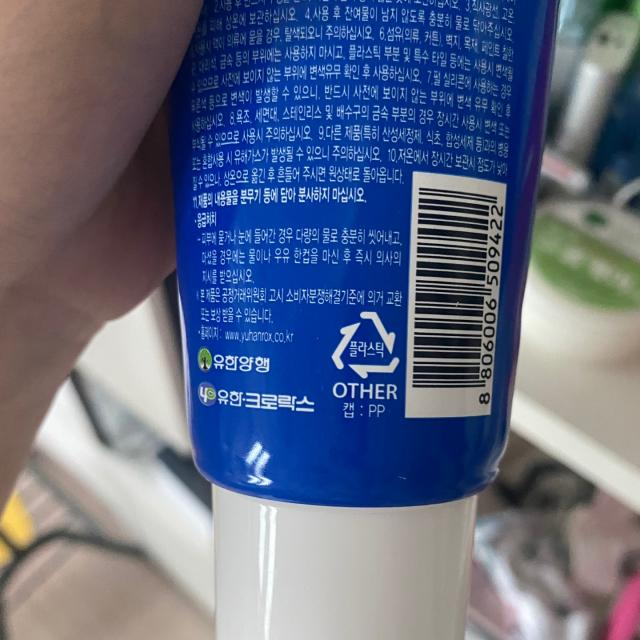Plastic: (329, 308, 402, 381)
